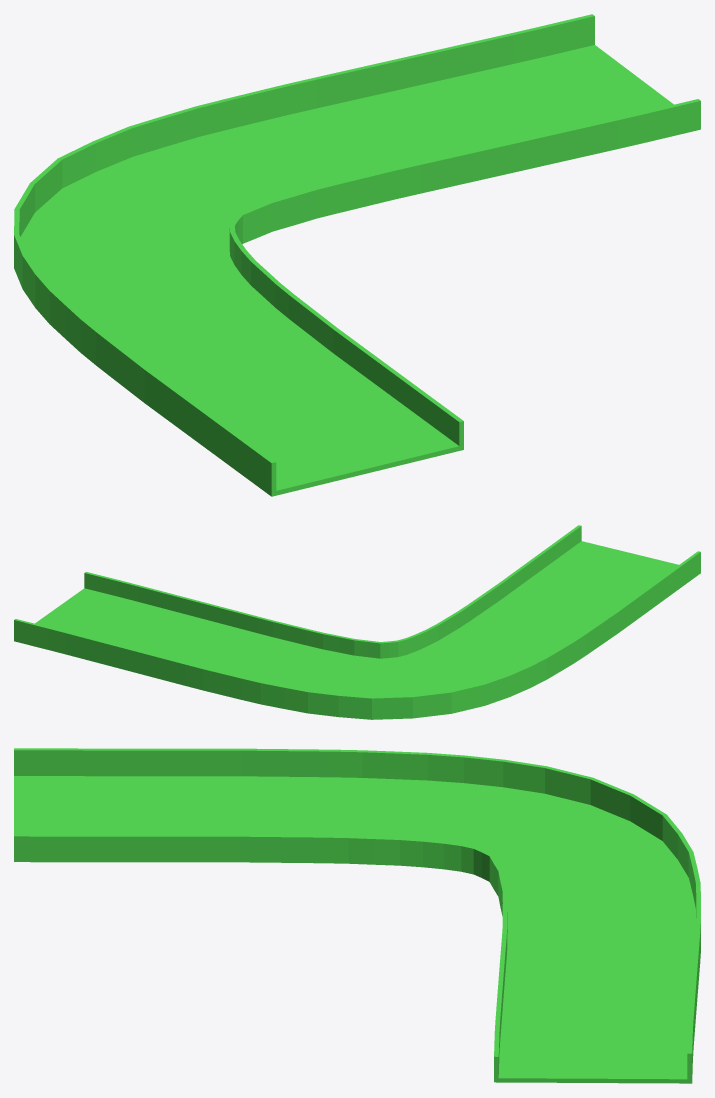
The model's file is curveGREEN.fbx.
3 renders of one model, top to bottom at view 1: azimuth 30°, elevation 25°; view 2: azimuth 150°, elevation 25°; view 3: azimuth 270°, elevation 25°, orthographic. The views are drawn at different scales.
Parts seen in each view (by area): view 1: Cube; view 2: Cube; view 3: Cube.
Part boxes in pixels (x1,y1,x2,y2): Cube: [14, 14, 700, 496]; Cube: [14, 525, 700, 719]; Cube: [14, 748, 700, 1083].
Bounding box in the file's own units: 2678 × 123 × 2547.
